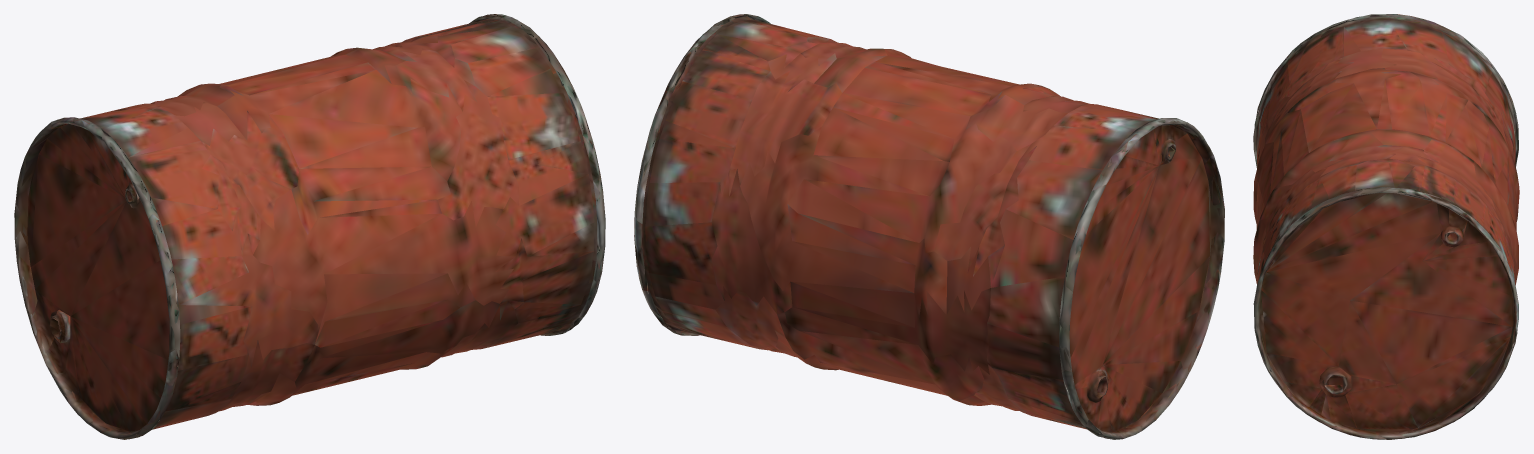
The model's file is barrel.glb.
The picture shows the model from 3 angles, left to right: view 1: azimuth 30°, elevation 25°; view 2: azimuth 150°, elevation 25°; view 3: azimuth 270°, elevation 25°; orthographic projection. The views are drawn at different scales.
Visible parts, largest first — view 1: Mesh_0; view 2: Mesh_0; view 3: Mesh_0.
Part boxes in pixels (x1=…): Mesh_0: x1=14, y1=14, x2=605, y2=439; Mesh_0: x1=634, y1=14, x2=1224, y2=439; Mesh_0: x1=1253, y1=14, x2=1519, y2=439.
Size of the model in its own units: 1.9 by 1.25 by 1.2.
Materials: 1 (1 with a texture image).
